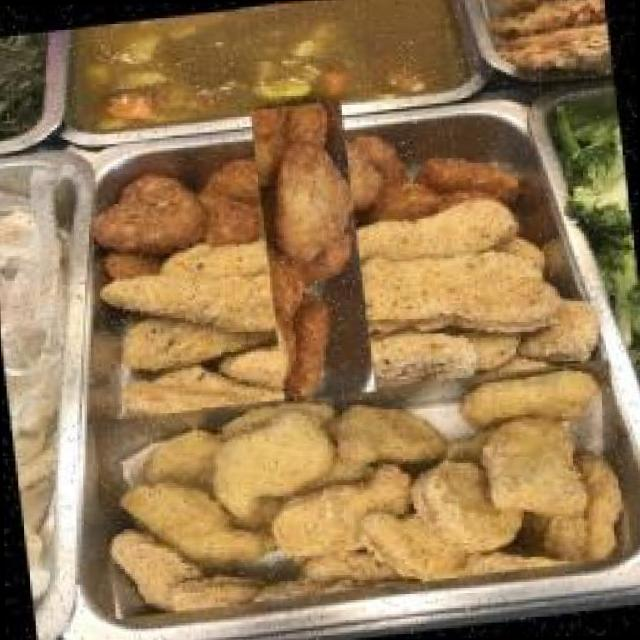chicken_nuggets: (91, 358, 633, 620)
curry: (79, 0, 454, 129)
triangle_hash_brown: (157, 35, 450, 328)
